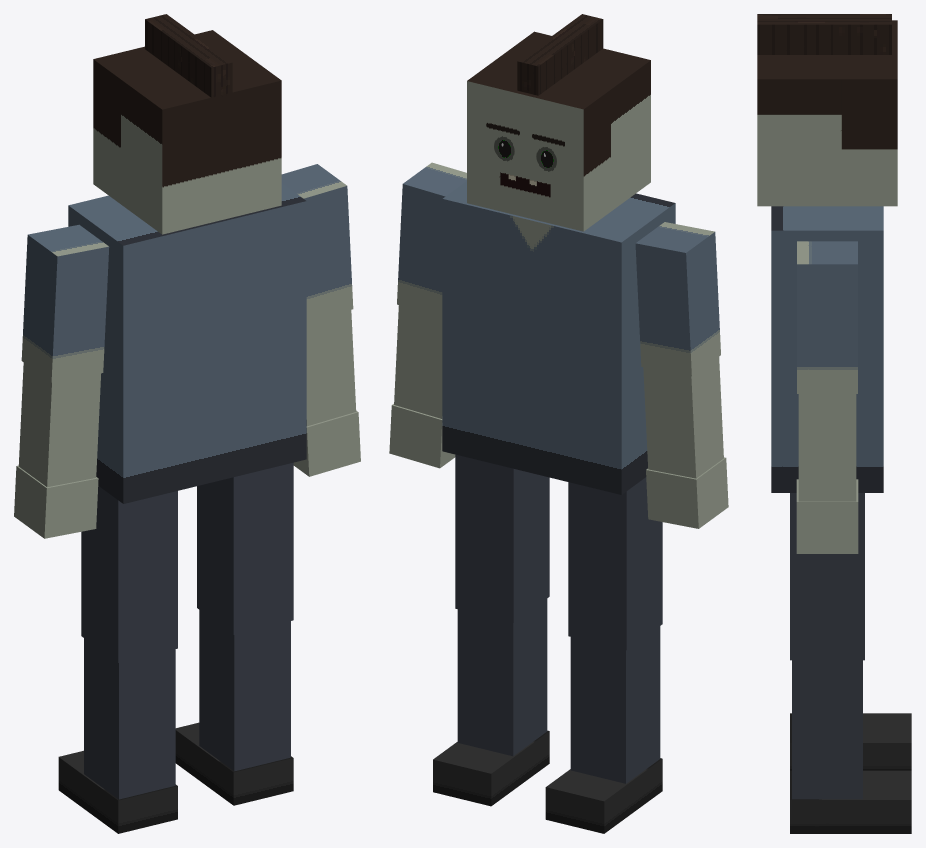
The model's file is hair_mohawk.glb.
3 renders of one model, left to right at view 1: azimuth 30°, elevation 25°; view 2: azimuth 150°, elevation 25°; view 3: azimuth 270°, elevation 25°, orthographic. The views are drawn at different scales.
Visible parts, largest first — view 1: block_torso, block_head, block_thigh.L, block_thigh.R, block_shin.R, block_shin.L, block_upper_arm.L, block_forearm.L, block_upper_arm.R, block_forearm.R, block_foot.L, block_foot.R (+3 smaller); view 2: block_torso, block_head, block_thigh.L, block_thigh.R, block_shin.R, block_shin.L, block_upper_arm.L, block_forearm.L, block_upper_arm.R, block_foot.L, block_foot.R, block_forearm.R (+3 smaller); view 3: block_head, block_torso, block_shin.R, block_upper_arm.R, block_thigh.R, block_forearm.R, block_foot.R, block_hair-mohawk, block_hand.R, block_foot.L.
Boxes of the visible parts, <box> form: block_torso: <box>68,183,306,503</box>; block_head: <box>93,30,281,234</box>; block_thigh.L: <box>81,486,177,662</box>; block_thigh.R: <box>197,462,293,634</box>; block_shin.R: <box>199,610,290,771</box>; block_shin.L: <box>84,638,175,799</box>; block_upper_arm.L: <box>21,224,109,382</box>; block_forearm.L: <box>18,363,100,487</box>; block_upper_arm.R: <box>281,164,353,322</box>; block_forearm.R: <box>306,310,356,426</box>; block_foot.L: <box>58,750,177,833</box>; block_foot.R: <box>175,722,293,805</box>; block_torso: <box>442,181,675,494</box>; block_head: <box>467,31,650,231</box>; block_thigh.L: <box>568,477,662,650</box>; block_thigh.R: <box>455,454,549,622</box>; block_shin.R: <box>457,599,547,756</box>; block_shin.L: <box>570,626,660,783</box>; block_upper_arm.L: <box>635,222,720,376</box>; block_forearm.L: <box>643,357,723,478</box>; block_upper_arm.R: <box>397,162,466,317</box>; block_foot.L: <box>545,758,662,833</box>; block_foot.R: <box>433,730,549,806</box>; block_forearm.R: <box>394,305,442,418</box>; block_head: <box>757,20,897,206</box>; block_torso: <box>771,206,883,492</box>; block_shin.R: <box>792,660,862,799</box>; block_upper_arm.R: <box>797,241,857,393</box>; block_thigh.R: <box>790,493,864,660</box>; block_forearm.R: <box>798,394,856,501</box>; block_foot.R: <box>790,770,911,833</box>; block_hair-mohawk: <box>757,14,891,54</box>; block_hand.R: <box>796,479,858,553</box>; block_foot.L: <box>790,713,911,770</box>.
Bounding box in the file's own units: 0.7948 × 1.82 × 0.33.
1 material, 1 textured.
